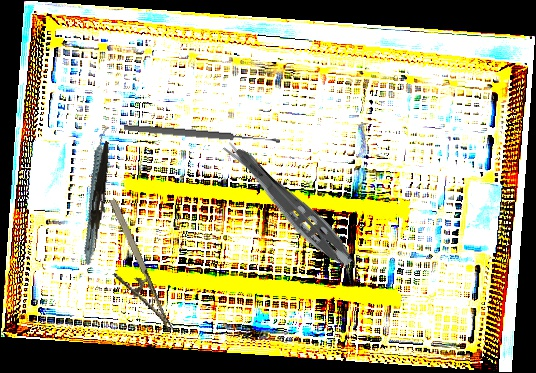Dressing Forceps: (87, 140, 111, 252)
Handpiece: (56, 124, 139, 267)
Micro Scissor: (217, 132, 360, 275)
Needle Holder: (87, 196, 174, 344)
Surgical Spoon: (123, 123, 281, 146)
Tissue Forceps: (223, 143, 370, 286)
